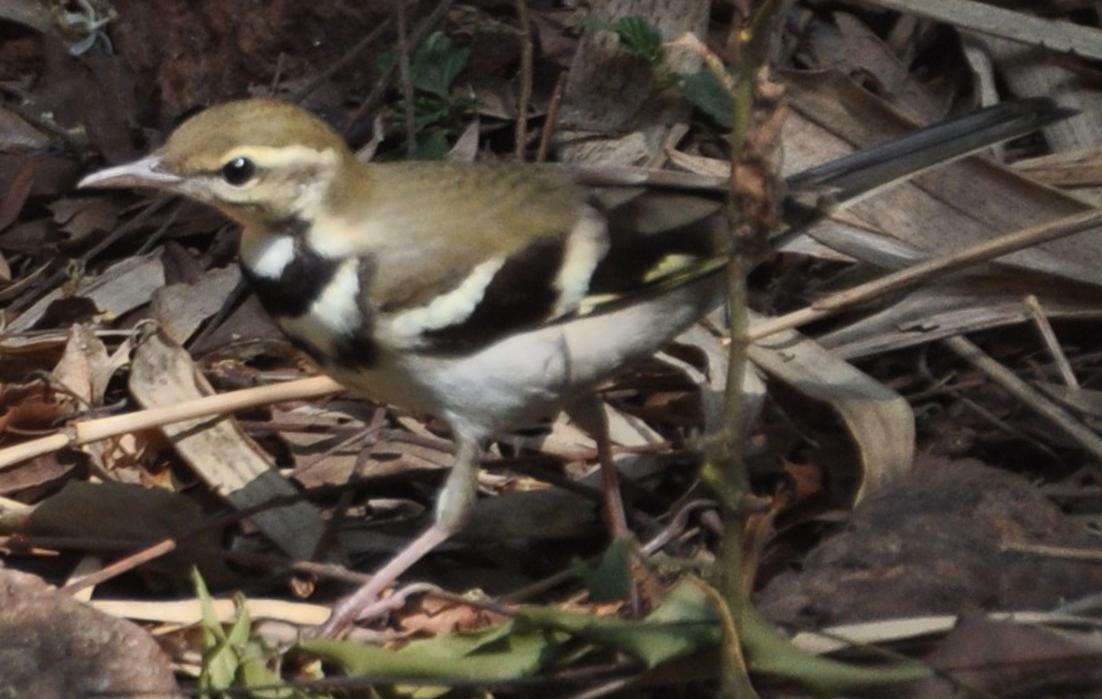wagtail: (75, 107, 757, 569)
